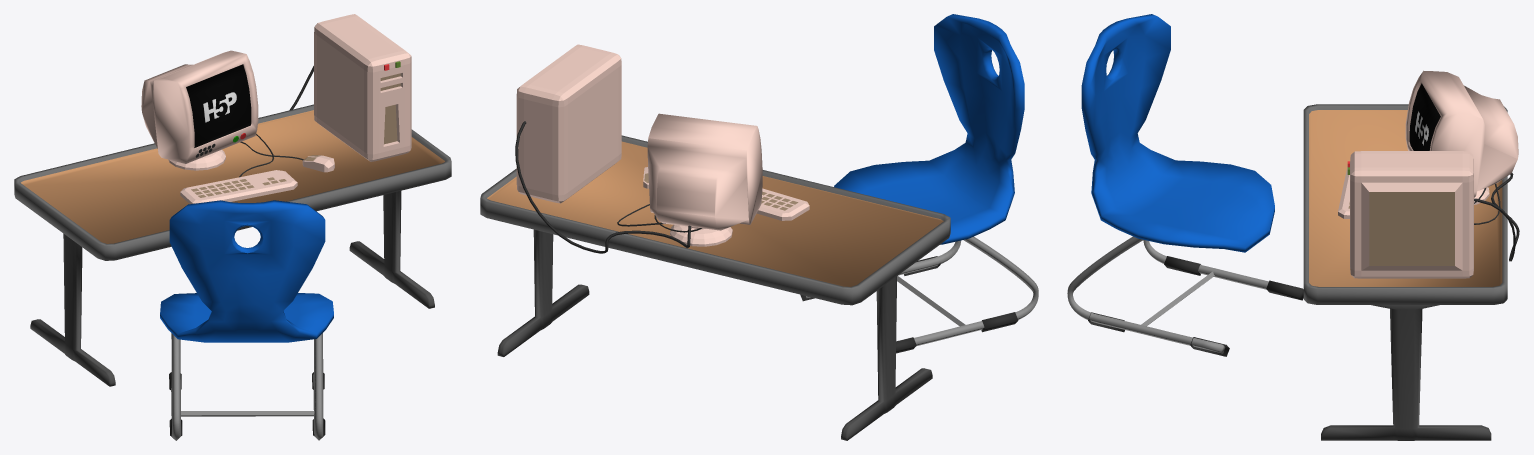
3 views of the same model, side by side, from view 1: azimuth 30°, elevation 25°; view 2: azimuth 150°, elevation 25°; view 3: azimuth 270°, elevation 25° (orthographic). The views are drawn at different scales.
Visible parts, largest first — view 1: Plane.009; view 2: Plane.009; view 3: Plane.009.
Part boxes in pixels (bbox=[...]): Plane.009: bbox=[14, 14, 451, 440]; Plane.009: bbox=[480, 14, 1038, 440]; Plane.009: bbox=[1067, 14, 1519, 440].
Size of the model in its own units: 1.67 by 1.1 by 1.7.
2 materials, 2 textured.
